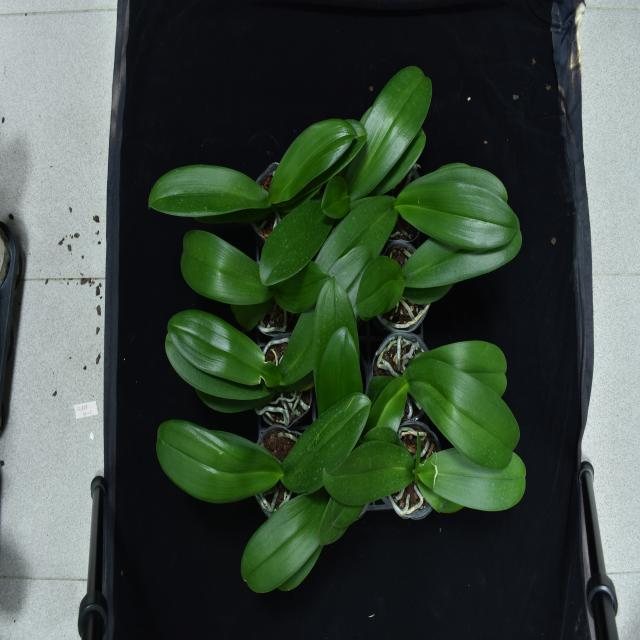leaf: (399, 343, 522, 465), (397, 180, 527, 274), (220, 493, 338, 592), (152, 418, 283, 498), (169, 314, 280, 398), (268, 106, 365, 193), (281, 396, 369, 483), (308, 191, 393, 279), (181, 228, 266, 306), (147, 164, 268, 218), (366, 65, 425, 174), (318, 276, 369, 402), (322, 448, 417, 498)
